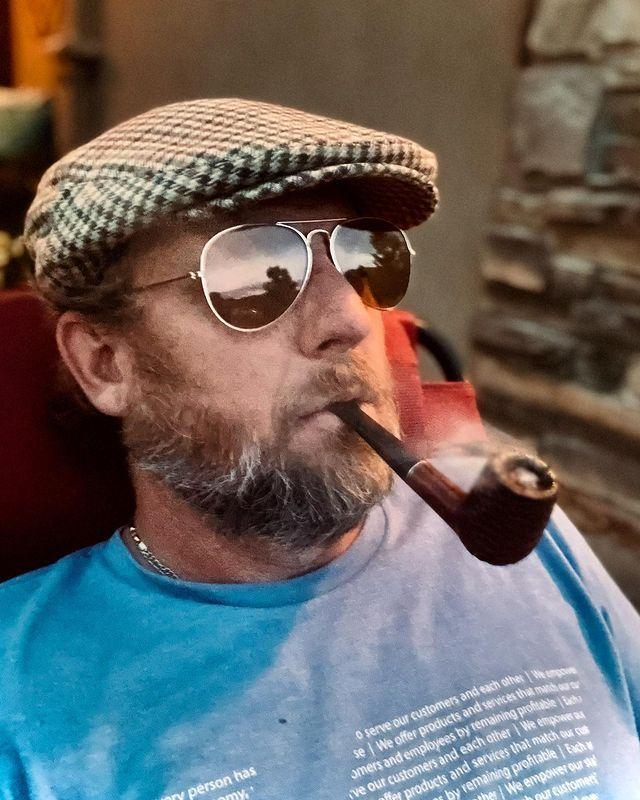trubka: (329, 398, 558, 567)
